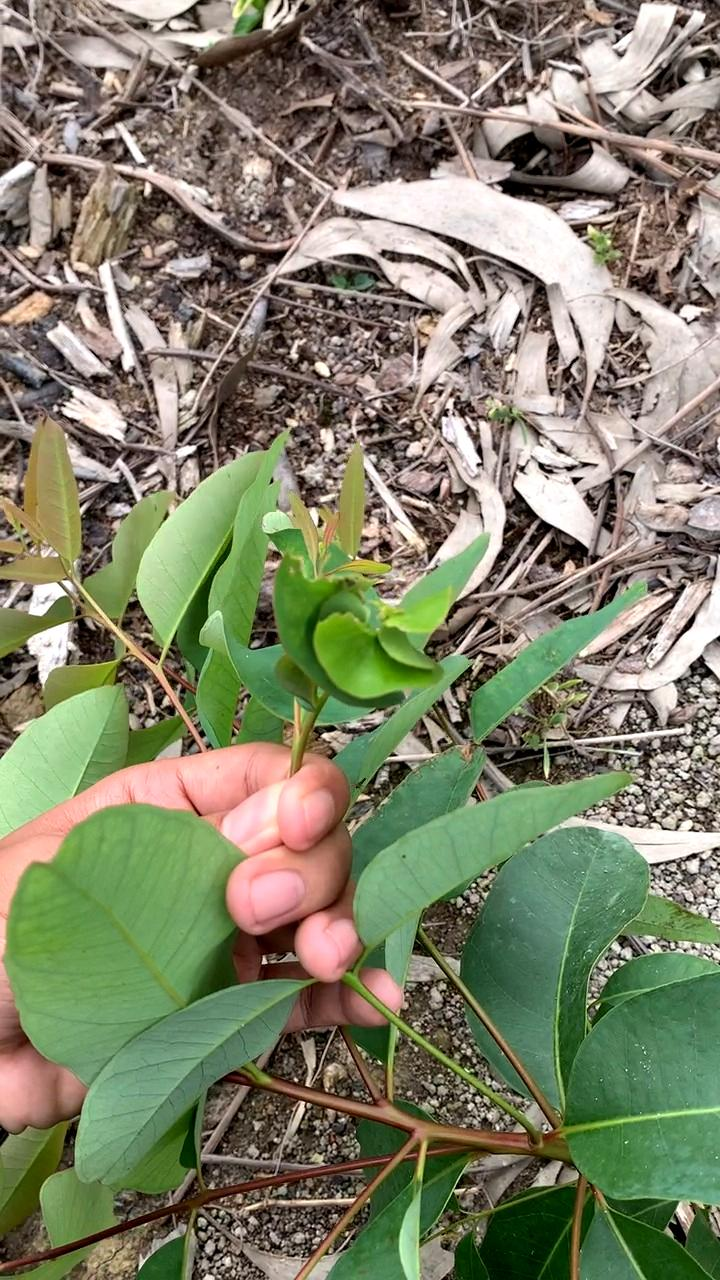Leaf Roller - Leaf: (246, 550, 445, 713)
